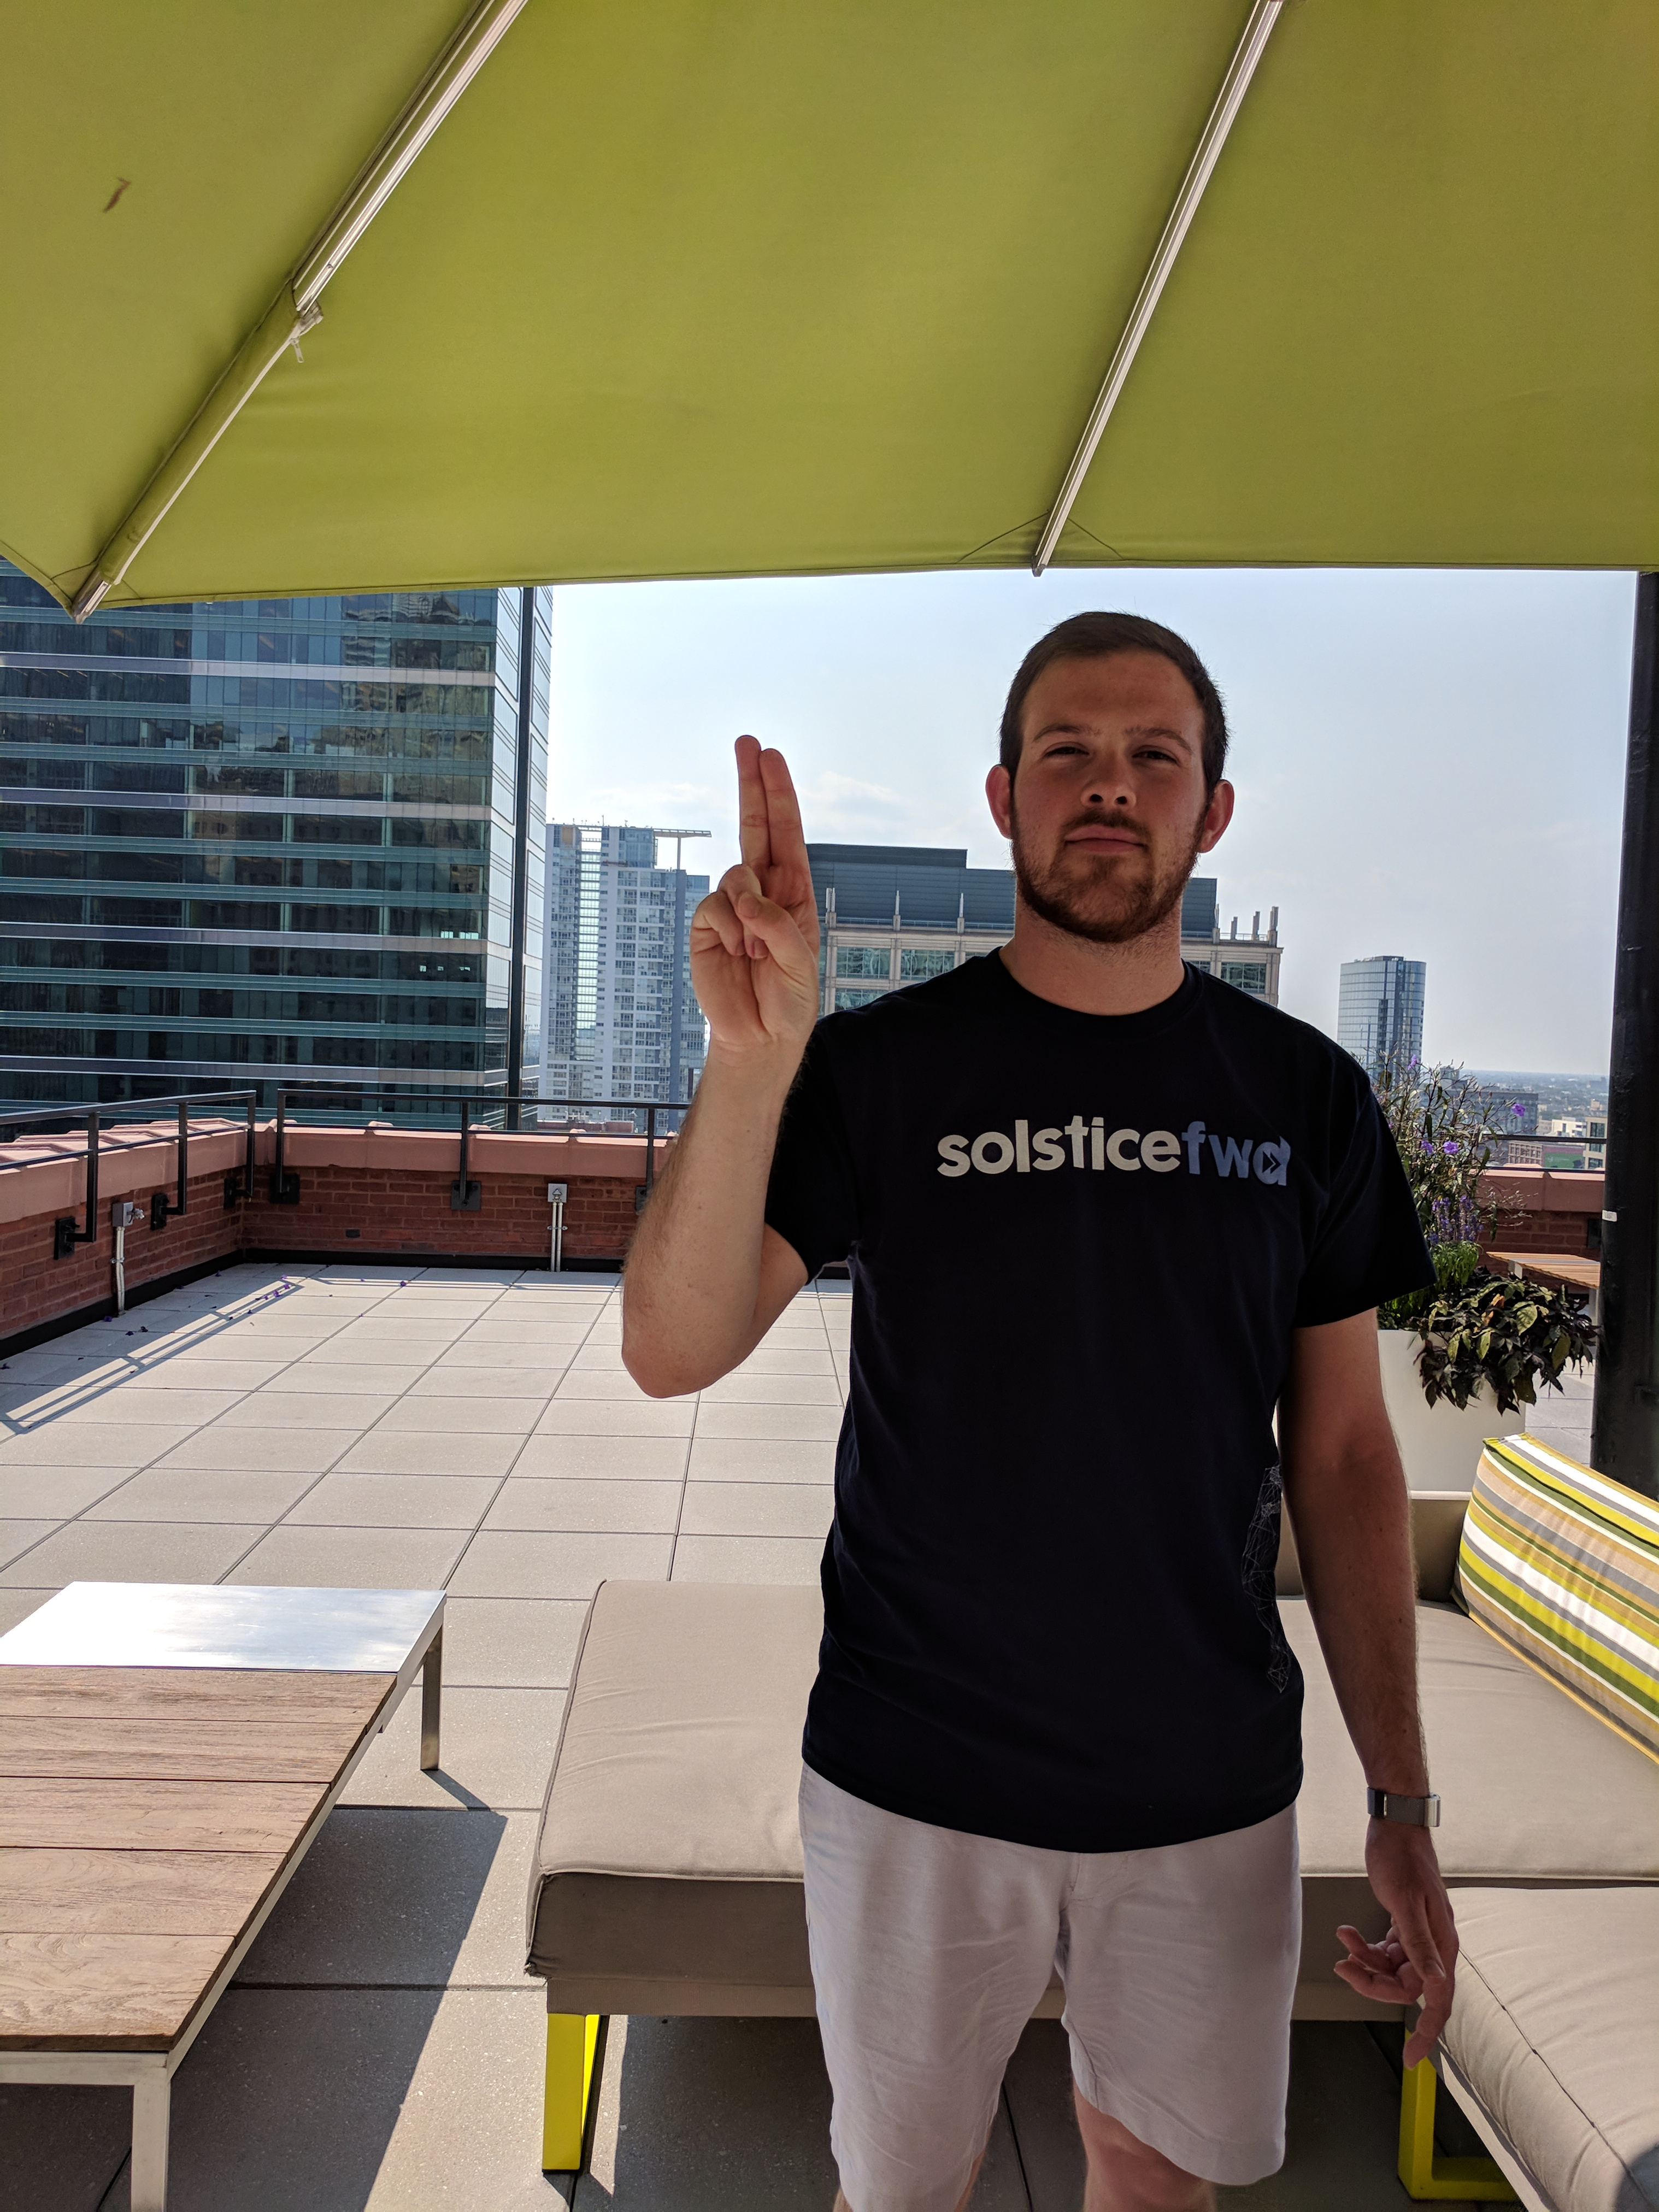u: (664, 728, 838, 1054)
